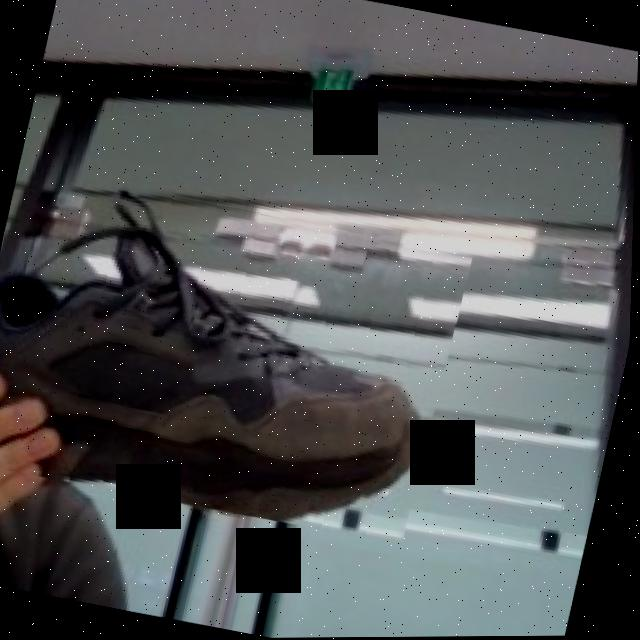shoe: (0, 160, 478, 549)
